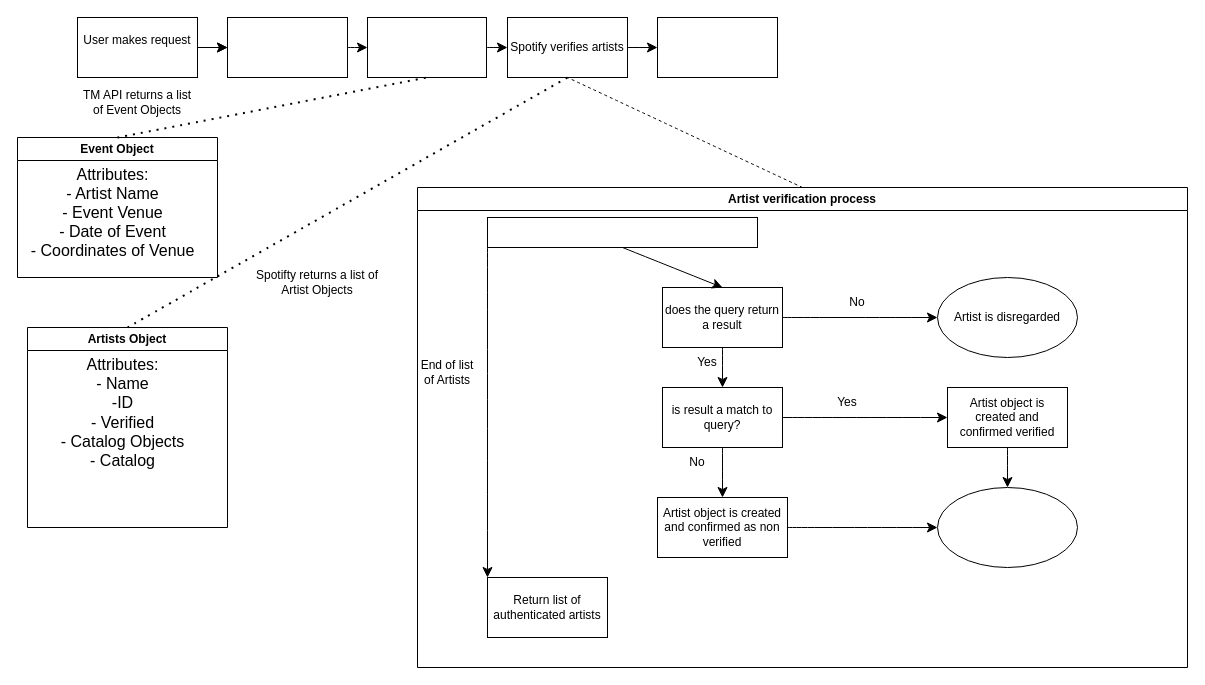
The diagram is 1205 pixels wide and 685 high, and some of its shapes have lost their labels. Here are the shapes that lost their labels. From the top down, the centre of each, then its label:
At point 287,47: "IPInfoAPI fetches users location from IP address".
At point 426,47: "TicketMaster API fetches names of nearby".
At point 717,47: "Spotify creates playlist".
At point 622,232: "For artist in artists, query Spotify artist search API endpoint".
At point 1007,527: "Artist object is added to list of artists".
